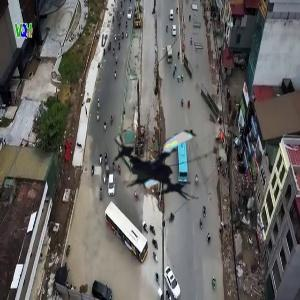drone: (113, 110, 220, 217)
